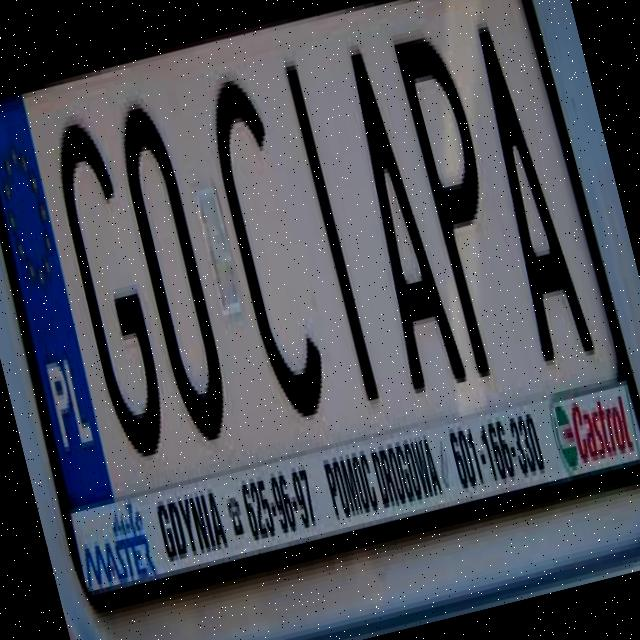EU: (0, 0, 640, 613)
Pologne: (0, 85, 115, 512)
